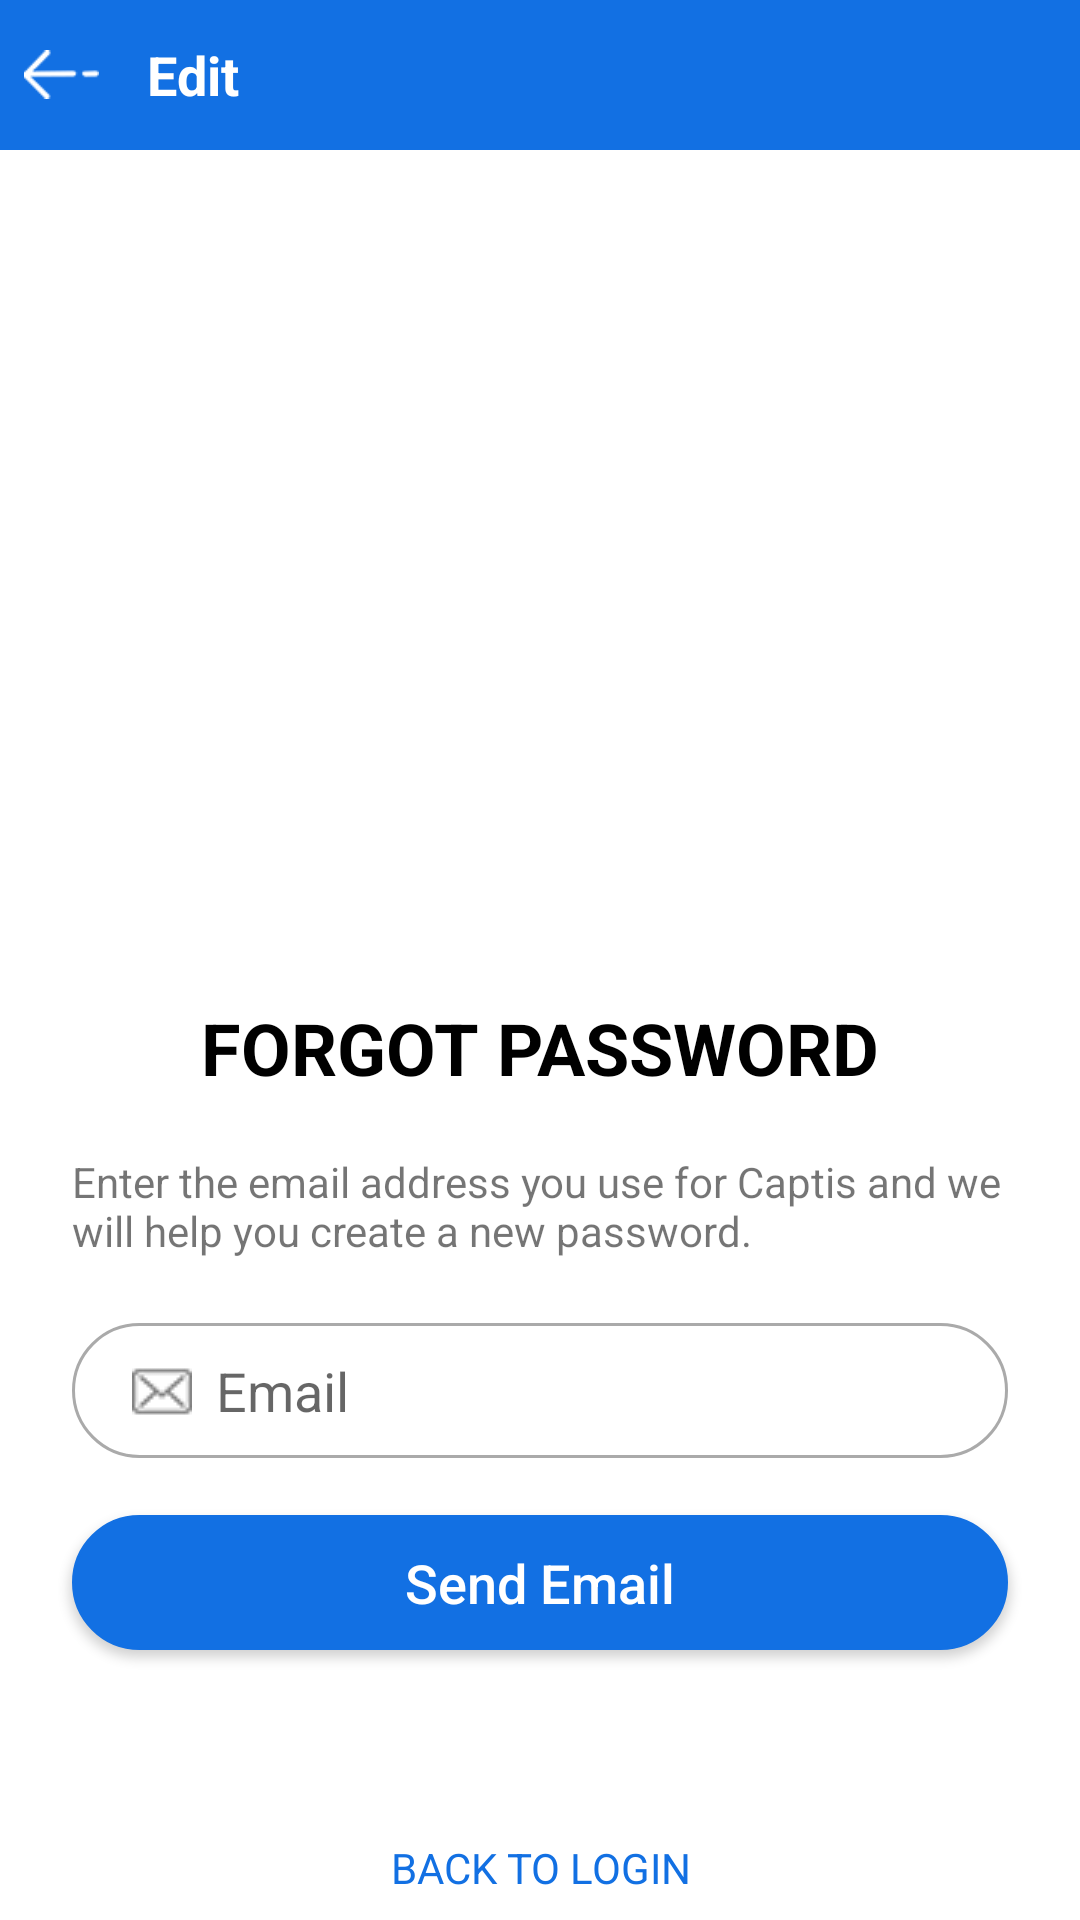

Screen size 1080 × 1920. Icon name, then its box in pixels as (x1, y1, x2, y2):
back: (24, 50, 99, 99)
